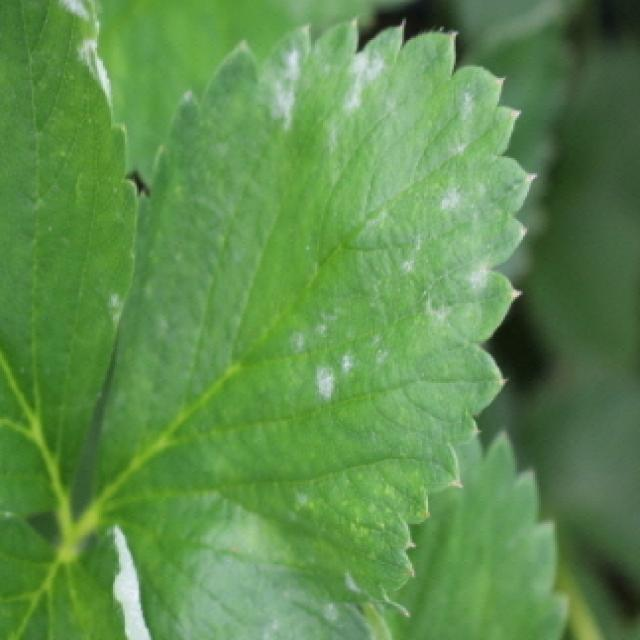Powdery Mildew Leaf: (67, 15, 539, 640), (0, 509, 156, 640)
